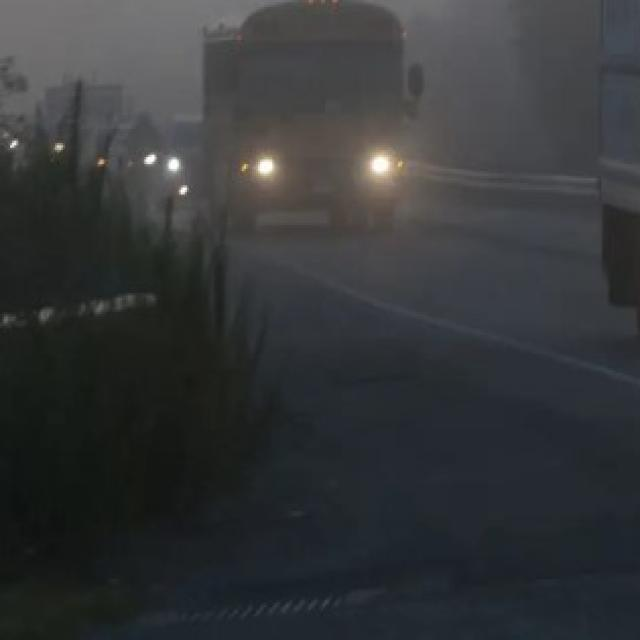bus: (205, 0, 426, 234)
car: (595, 0, 639, 356)
